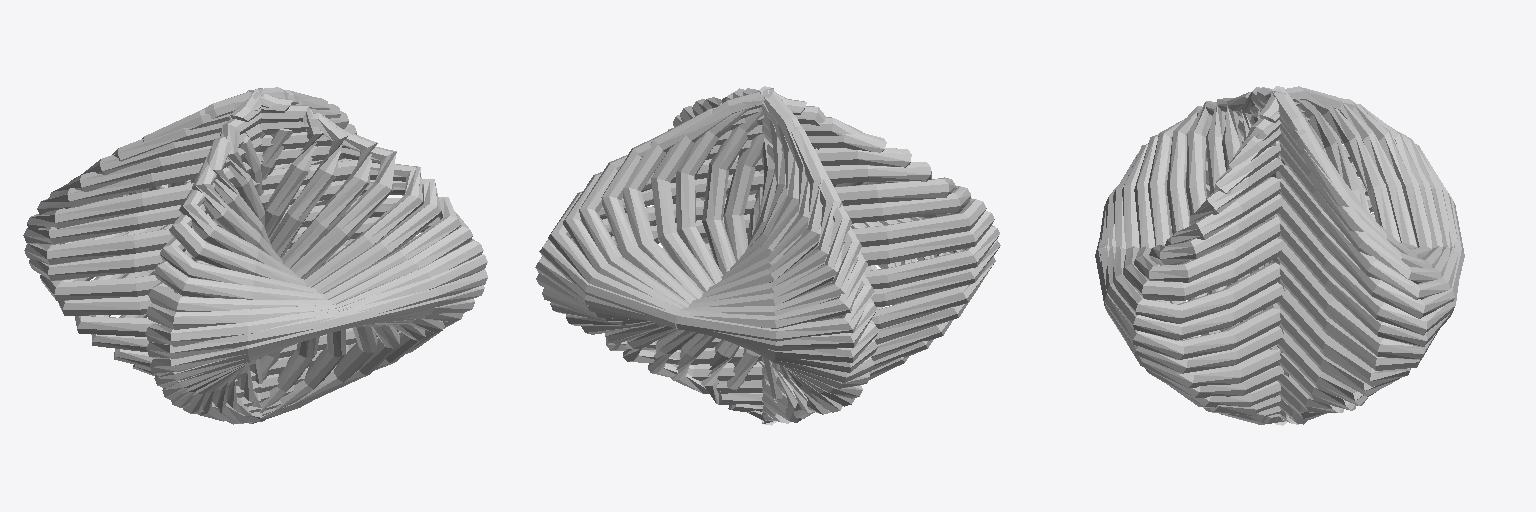
The model's file is threeOne.obj.
3 views of the same model, side by side, from view 1: azimuth 30°, elevation 25°; view 2: azimuth 150°, elevation 25°; view 3: azimuth 270°, elevation 25° (orthographic).
Parts seen in each view (by area): view 1: Sweep; view 2: Sweep; view 3: Sweep.
Boxes of the visible parts, x1=… form: Sweep: x1=23, y1=87, x2=487, y2=424; Sweep: x1=535, y1=86, x2=1000, y2=425; Sweep: x1=1095, y1=86, x2=1464, y2=425.
Size of the model in its own units: 1.3 by 1.3 by 1.3.